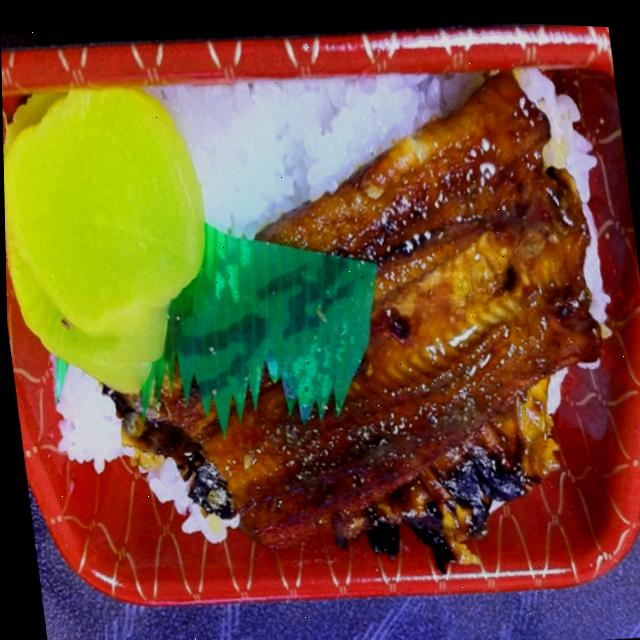熟制海鲜: (14, 23, 640, 607)
